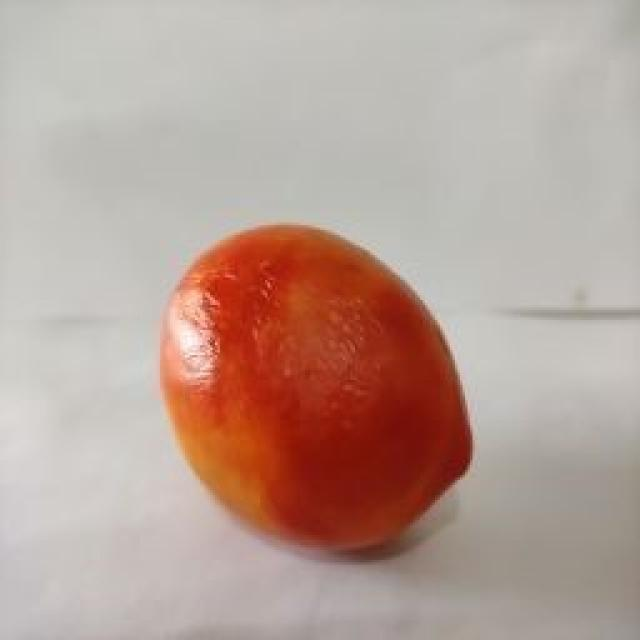overripe: (152, 212, 480, 559)
